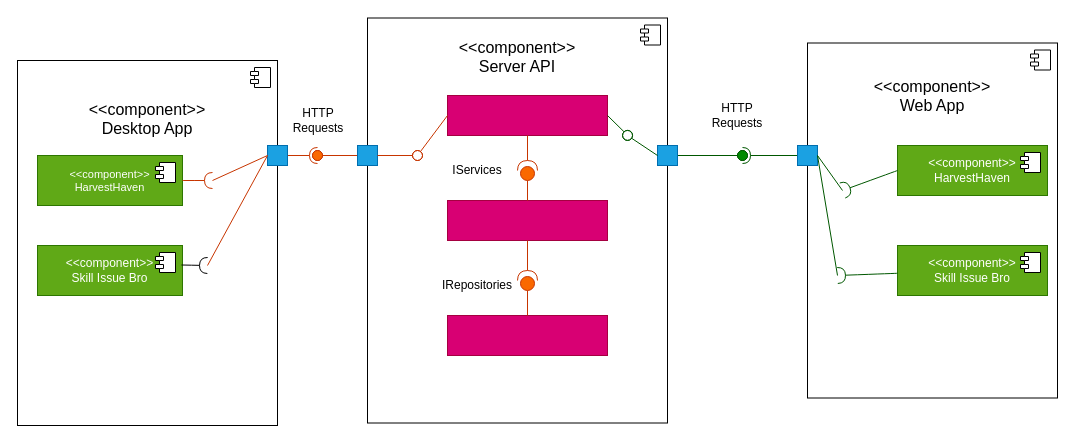
This 1075x443 diagram has some shape labels left out. Here are the shapes that lost their labels. From the top down, the box of each, then its label:
(446, 94, 608, 136): «Package» Controllers
(446, 200, 608, 240): «Package» Services
(446, 314, 608, 356): «Package» Repositories
